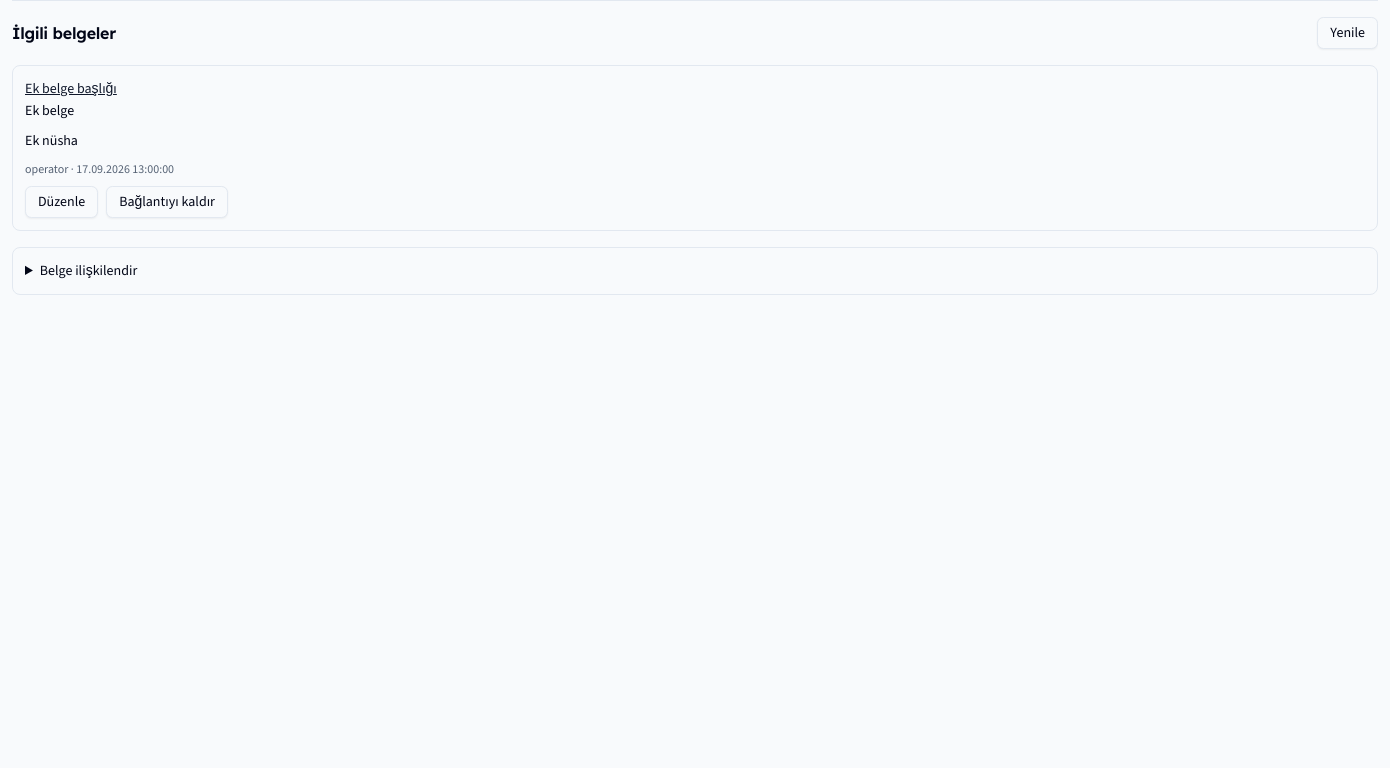
Test: preserves the relationship when concurrent removal is rejected
Expected: the link "Ek belge başlığı" is shown, [25,79,117,98]
Click the button "Bağlantıyı kaldır". click: x=167, y=202
box: [106,186,228,218]
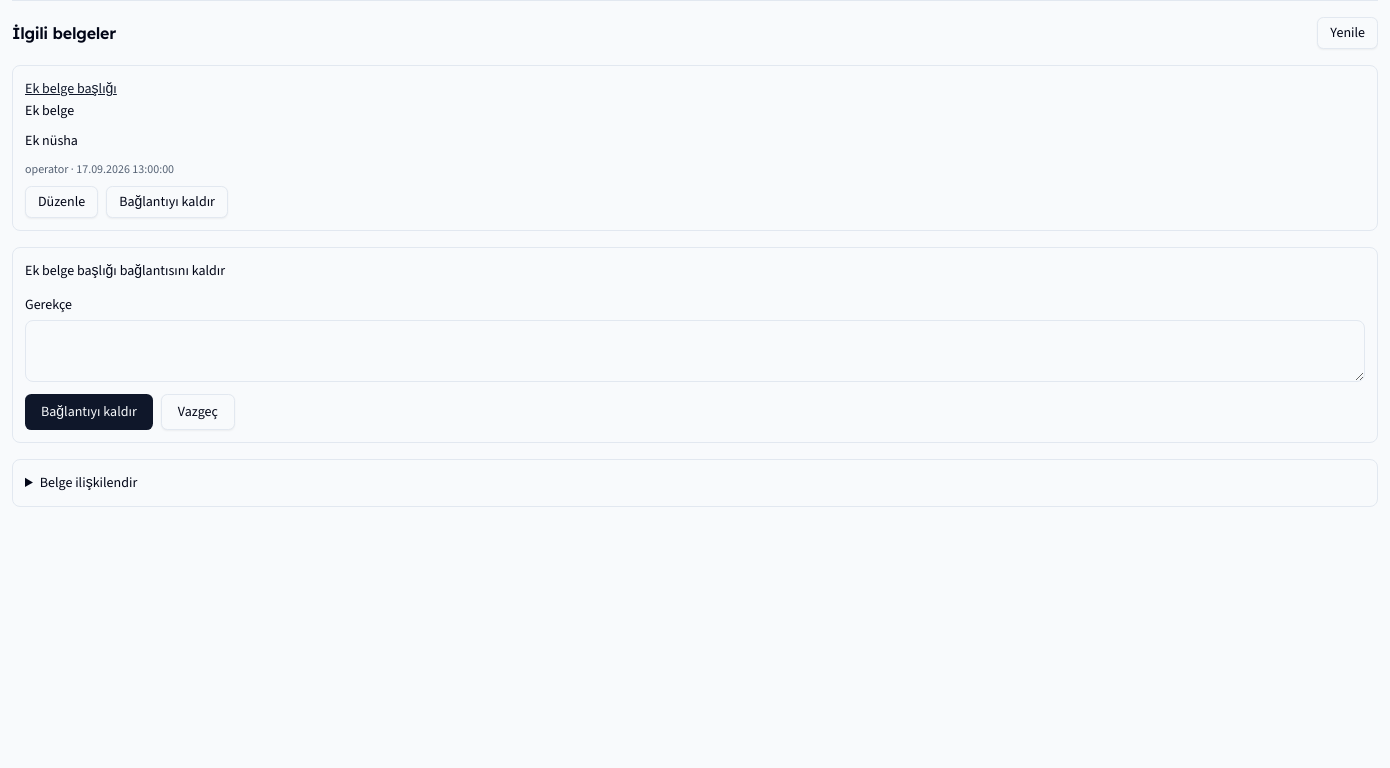
Type "Yanlış bağlantı" into the text box labelled "Gerekçe". click: x=695, y=351
box: [25,320,1365,382]
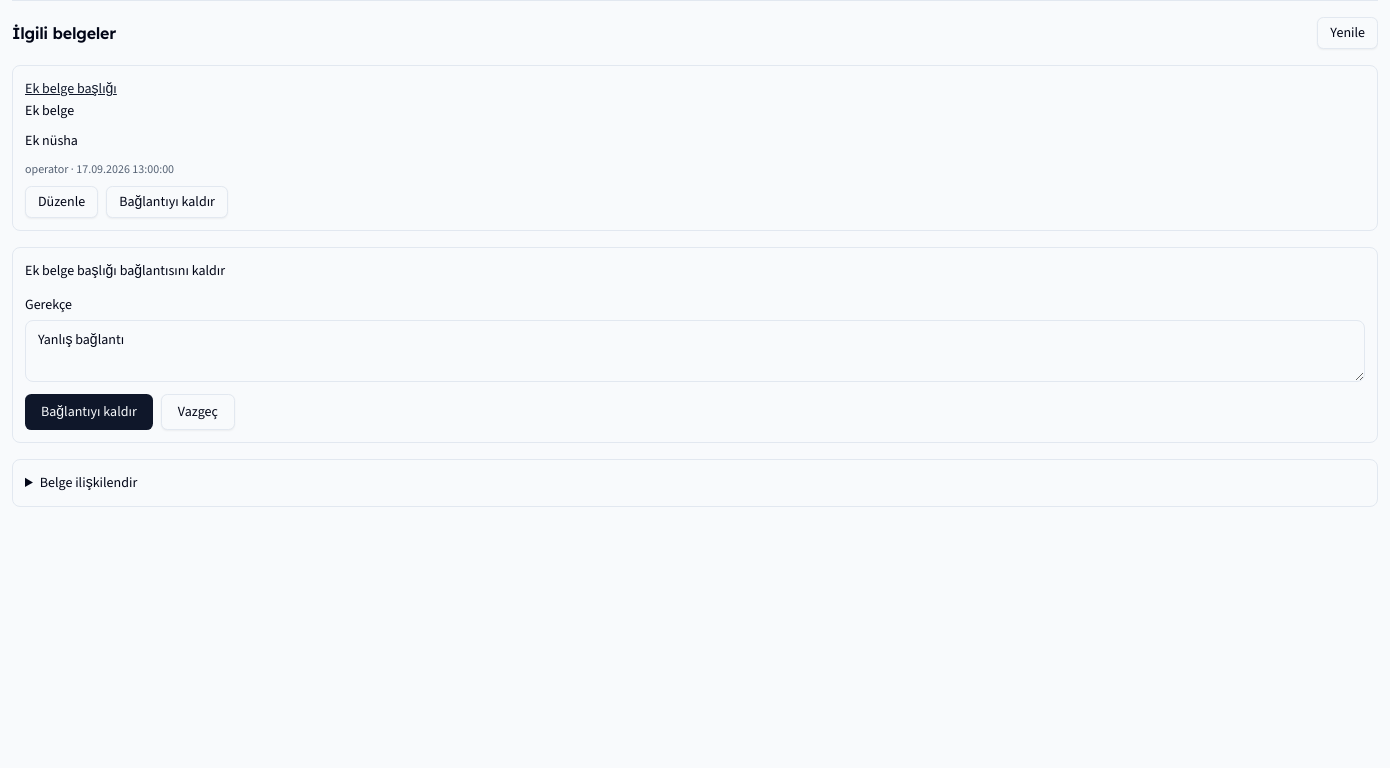
Submit the form labelled "Gerekçe", box [12,247,1378,443]
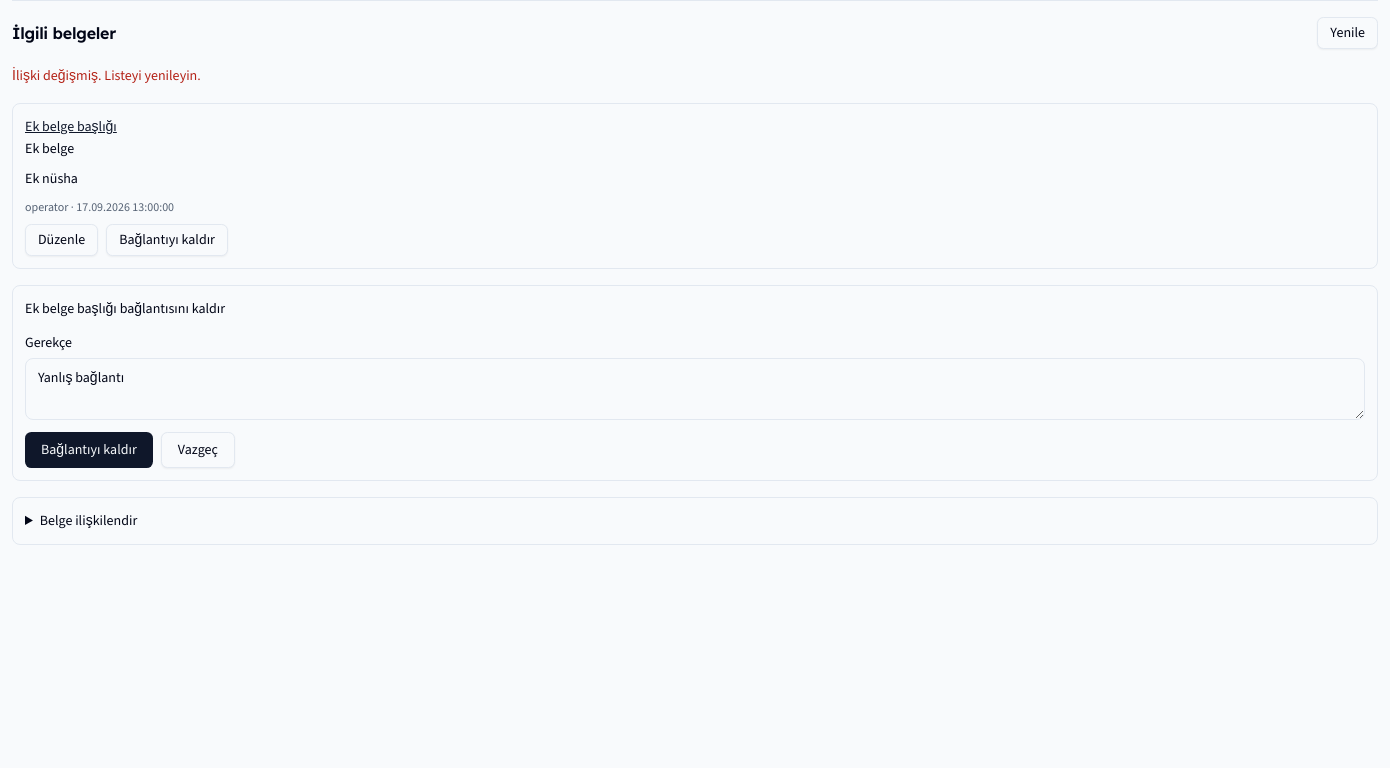
Expected: the link "Ek belge başlığı" is shown, [25,117,117,136]
Now the message "İlişki değişmiş. Listeyi yenileyin." is shown, box [12,66,201,85]
